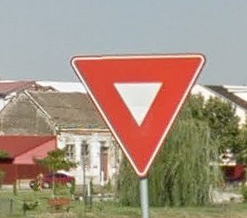cedeaza: (67, 53, 207, 179)
